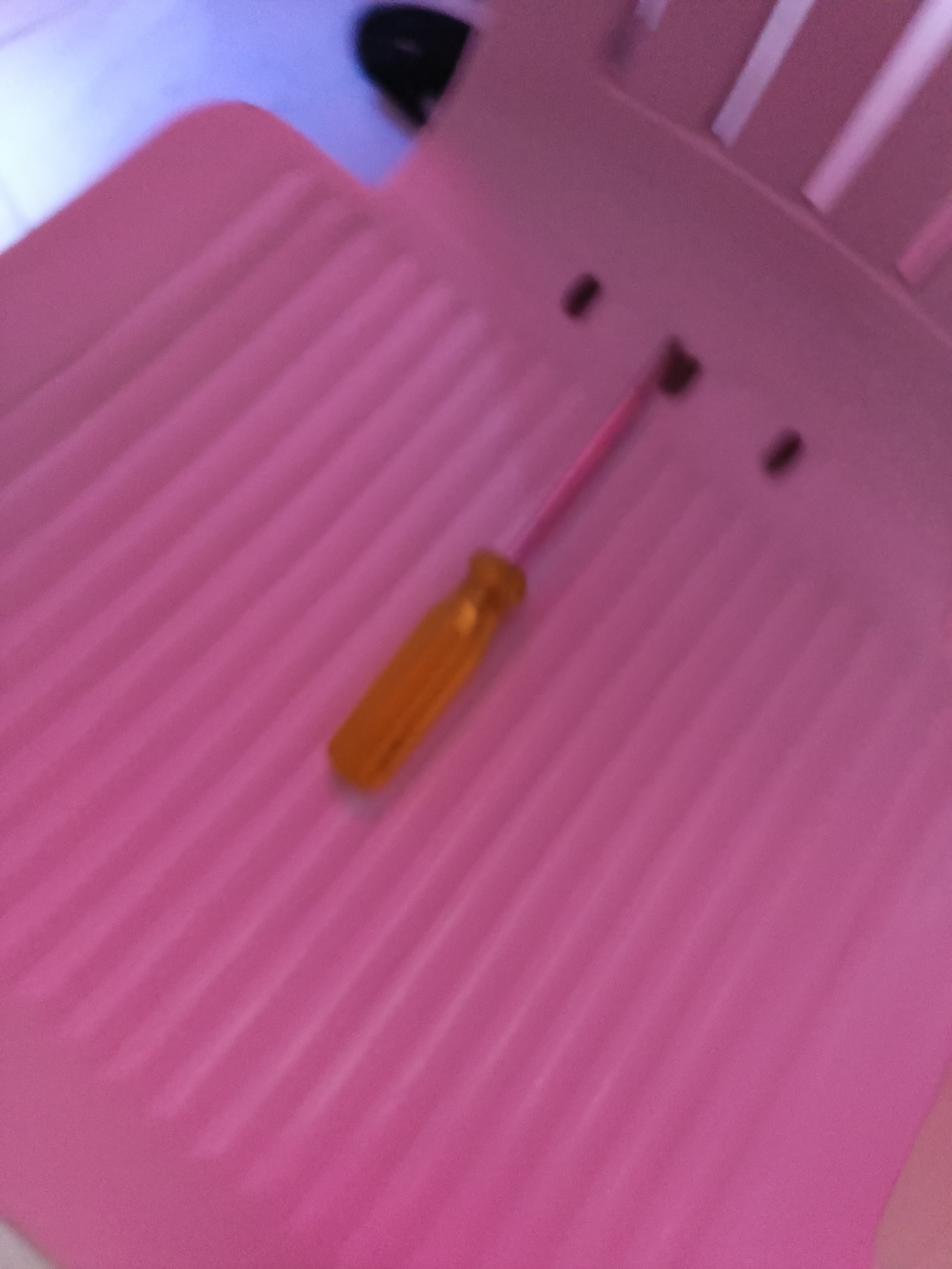Destornillador: (329, 349, 667, 790)
